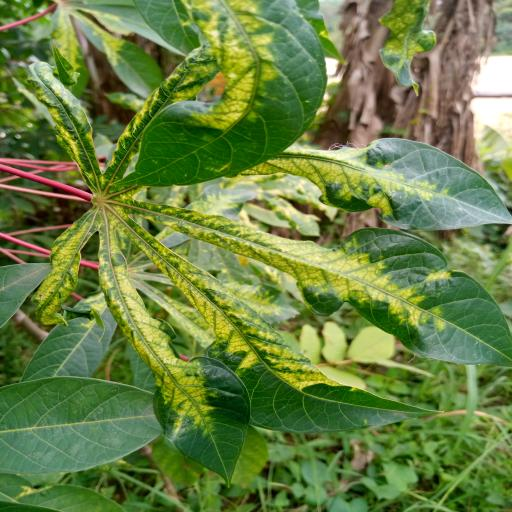Cassava_Mosaic: (8, 0, 512, 472)
